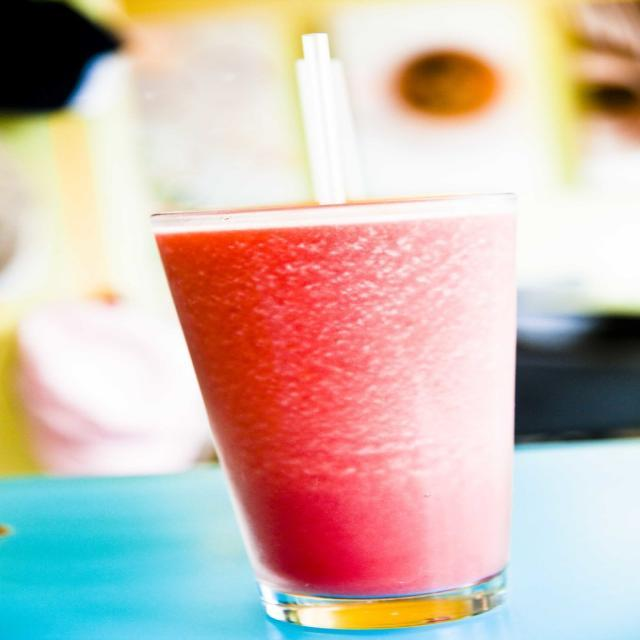Juice: (128, 223, 536, 631)
